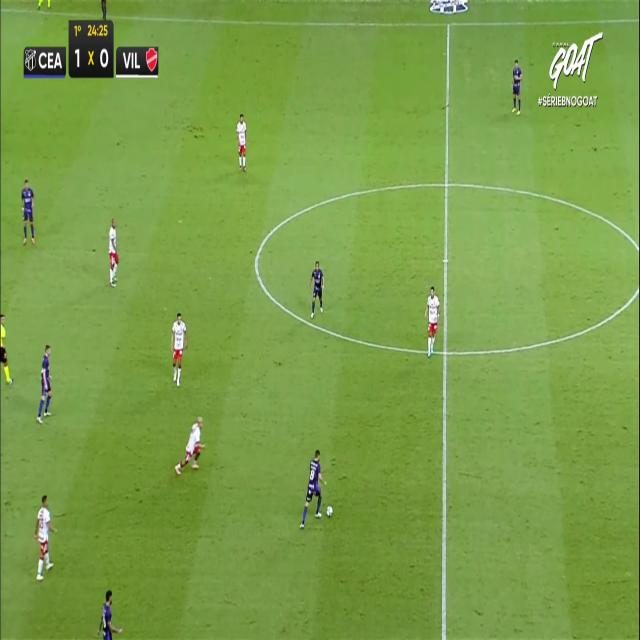ball: (326, 504, 335, 518)
player: (33, 494, 57, 580), (300, 450, 326, 527), (175, 415, 204, 474), (93, 589, 123, 639), (36, 344, 52, 422), (171, 311, 187, 385), (424, 284, 439, 357), (21, 178, 36, 244), (309, 259, 324, 316), (108, 218, 118, 286), (511, 57, 522, 114), (236, 113, 246, 171), (96, 0, 112, 20)
referee: (0, 312, 13, 385), (36, 0, 53, 10)
